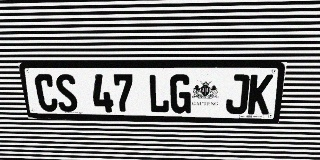4: (91, 74, 114, 112)
7: (112, 74, 135, 113)
C: (34, 74, 59, 112)
G: (170, 74, 192, 113)
J: (225, 74, 250, 114)
K: (247, 74, 274, 115)
L: (148, 74, 169, 113)
S: (54, 74, 79, 112)
